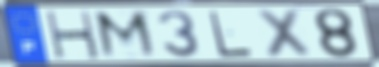3: (157, 10, 202, 59)
8: (313, 7, 359, 59)
H: (43, 9, 103, 61)
L: (207, 9, 255, 59)
M: (91, 9, 162, 60)
X: (254, 8, 314, 59)
